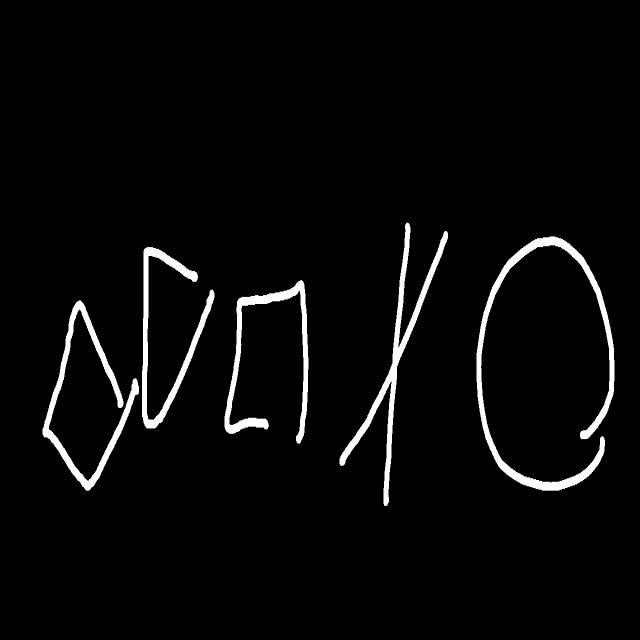Circle: (476, 238, 614, 491)
Cross: (340, 223, 448, 506)
Diamond: (43, 300, 139, 491)
Square: (224, 280, 309, 443)
Triangle: (142, 247, 214, 428)
